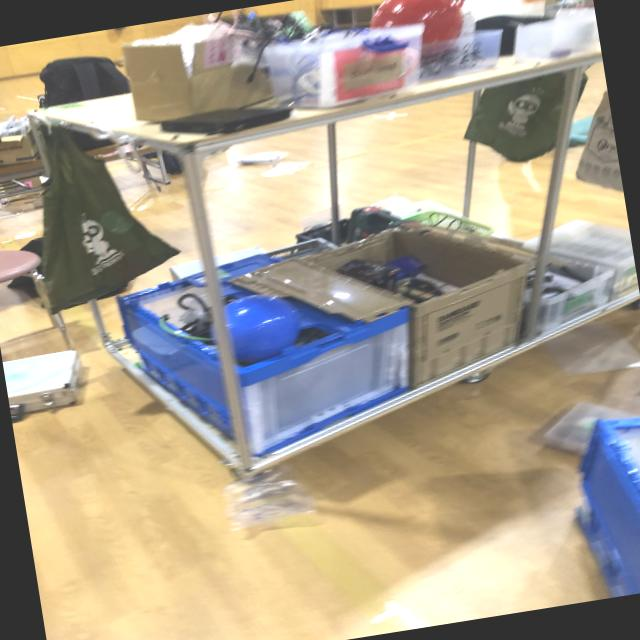blue_ball: (216, 286, 298, 368)
red_ball: (362, 0, 485, 64)
